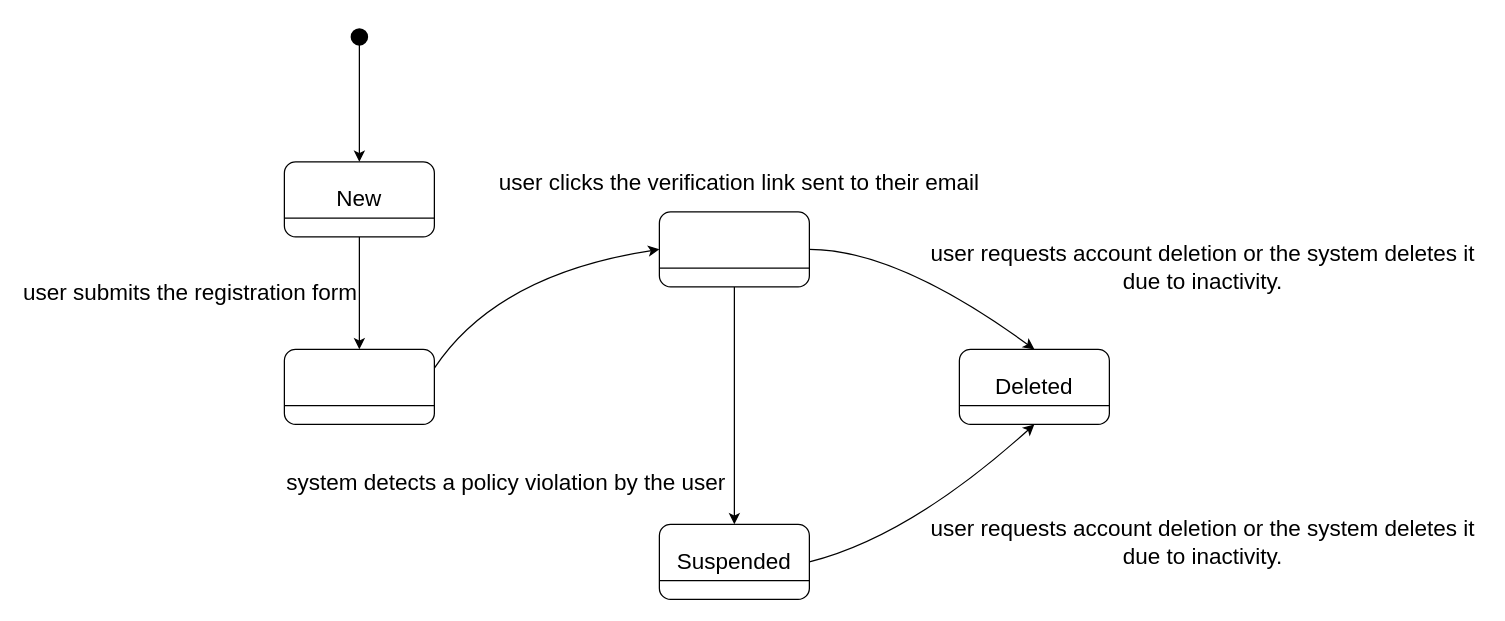
The diagram is 1505 pixels wide and 621 high, and some of its shapes have lost their labels. Each missing label, with the centre of its shape:
"Registered" belongs at (x=358, y=386).
"Verified" belongs at (x=733, y=249).
